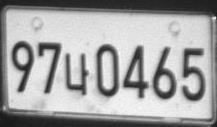0: (95, 43, 119, 97)
4: (122, 45, 148, 98)
5: (181, 47, 206, 101)
6: (152, 46, 177, 100)
7: (37, 41, 62, 93)
9: (11, 40, 34, 92)
나: (64, 52, 89, 95)
